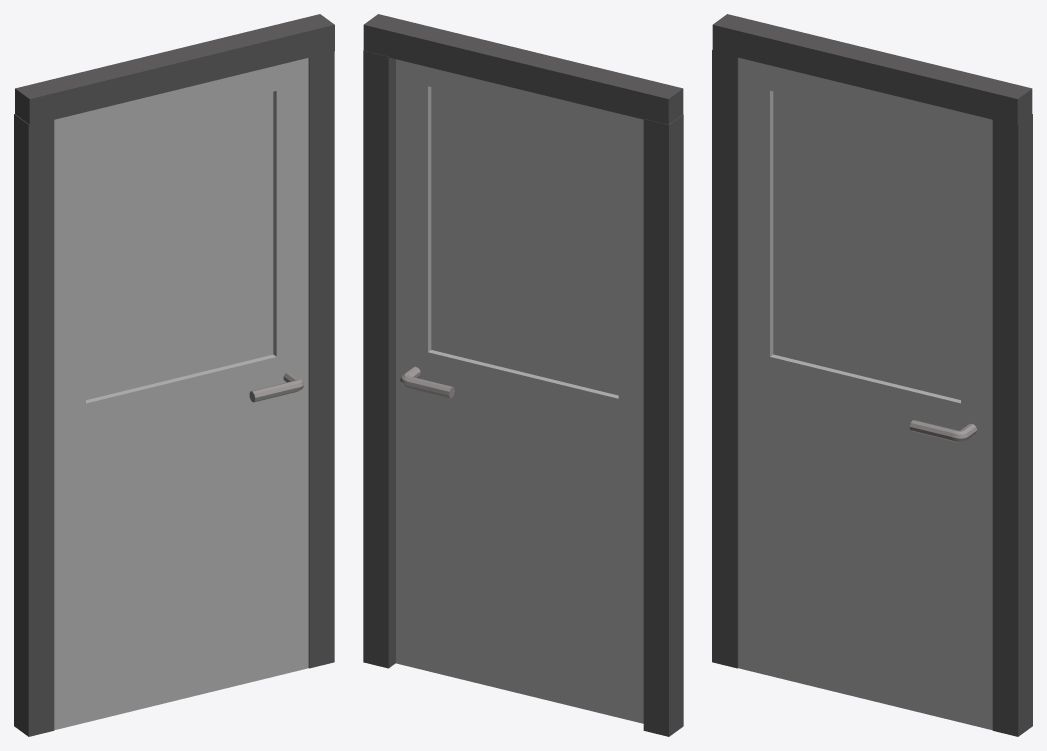
The model's file is classdoor.fbx.
3 renders of one model, left to right at view 1: azimuth 30°, elevation 25°; view 2: azimuth 150°, elevation 25°; view 3: azimuth 330°, elevation 25°, orthographic.
Parts seen in each view (by area): view 1: pCube8; view 2: pCube8; view 3: pCube8.
Boxes of the visible parts, <box> form: pCube8: <box>14,14,334,736</box>; pCube8: <box>363,14,683,736</box>; pCube8: <box>712,14,1032,736</box>.
Size of the model in its own units: 1.2 by 2.4 by 0.2532.
3 materials, 3 textured.
